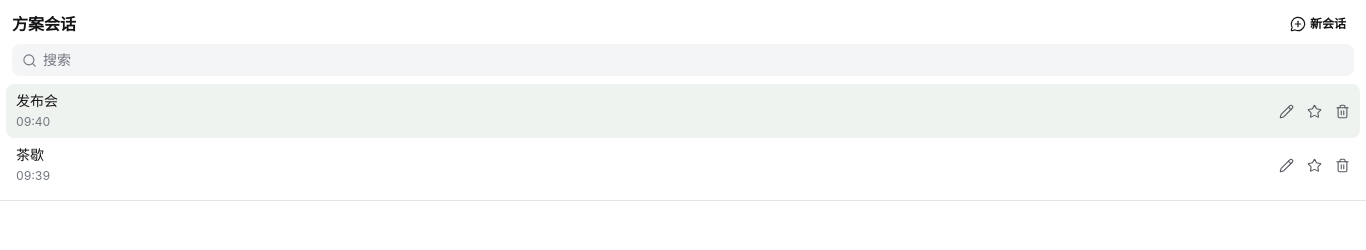
Test: session history panel › toggles a favorite and asks before deleting
Click the button named "收藏 茶歇" at [1314, 165], box [1300, 151, 1328, 179]
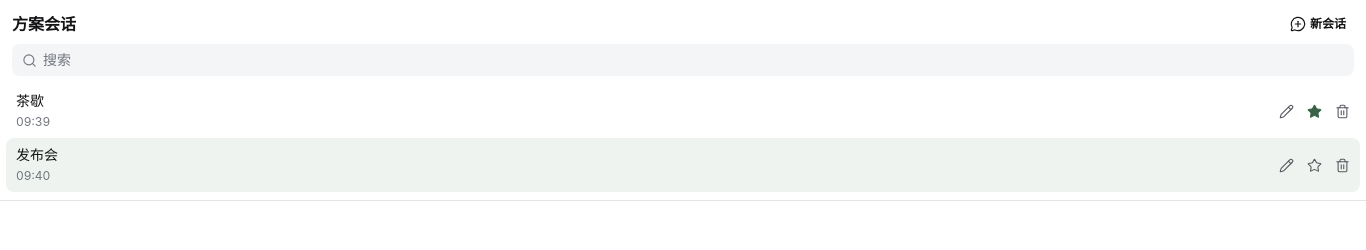
Expected: the button "茶歇 09:39" is shown, [12, 88, 1270, 134]
Result: the button named "取消收藏 茶歇" is pressed at [1300, 97, 1328, 125]
Click the button named "删除 茶歇" at [1342, 111], box [1328, 97, 1356, 125]
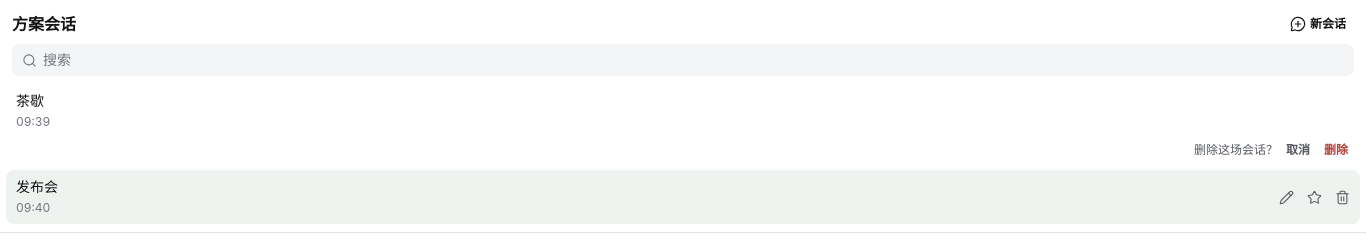
Result: the text "删除这场会话？" is shown at [1194, 139, 1278, 161]
Click the button "取消" at [1298, 150], box [1280, 136, 1316, 164]
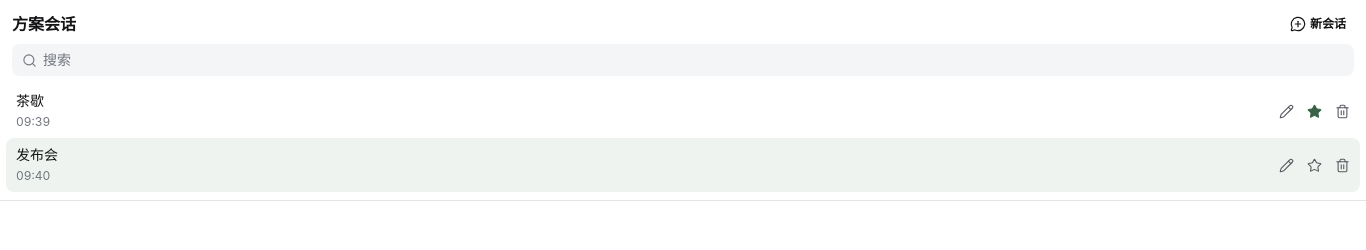
Expected: the button "茶歇 09:39" is shown, [12, 88, 1270, 134]
Click the button named "删除 茶歇" at [1342, 111], box [1328, 97, 1356, 125]
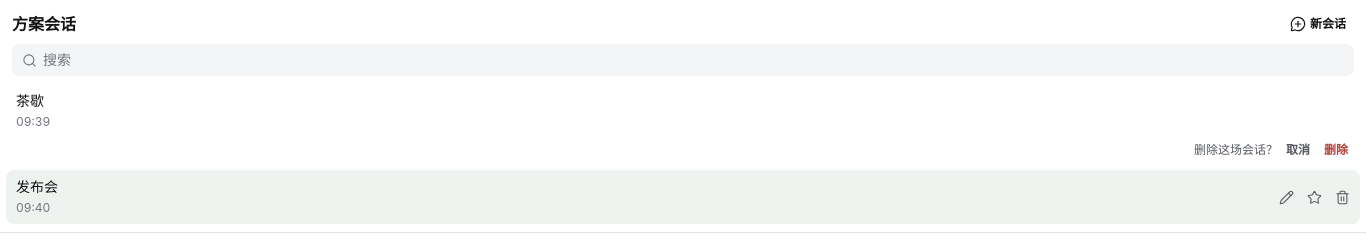
Click the button with aria-label "确认删除" at [1336, 150], box [1318, 136, 1354, 164]
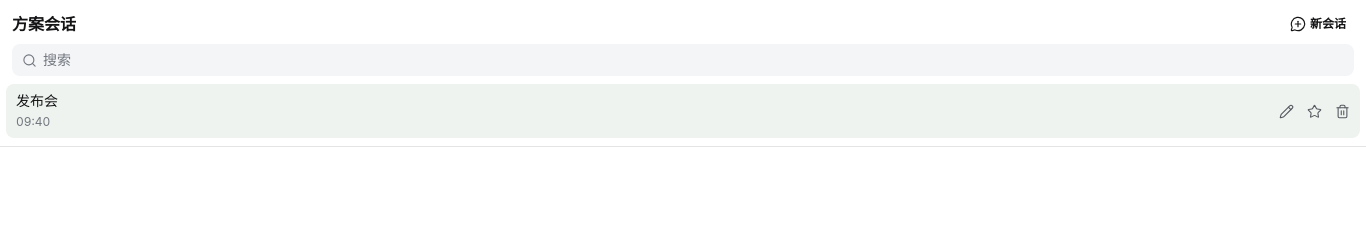
Expected: the button "发布会 09:40" is shown, [12, 88, 1270, 134]
Result: the button "茶歇" is gone
